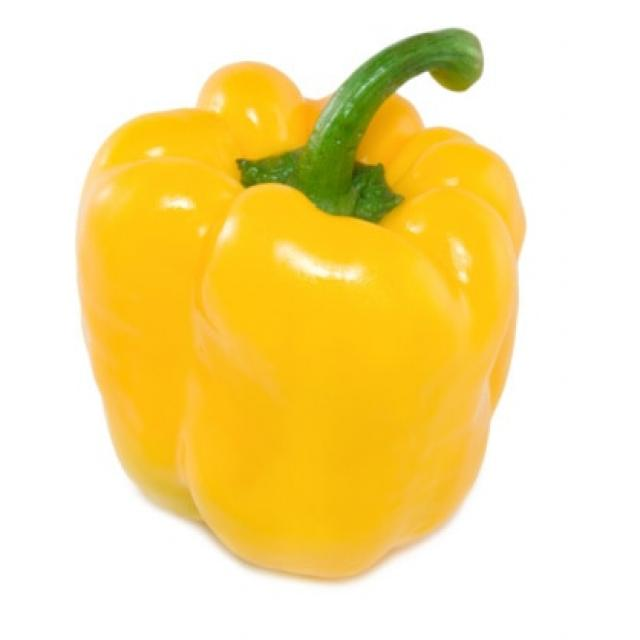bell pepper: (46, 12, 630, 596)
